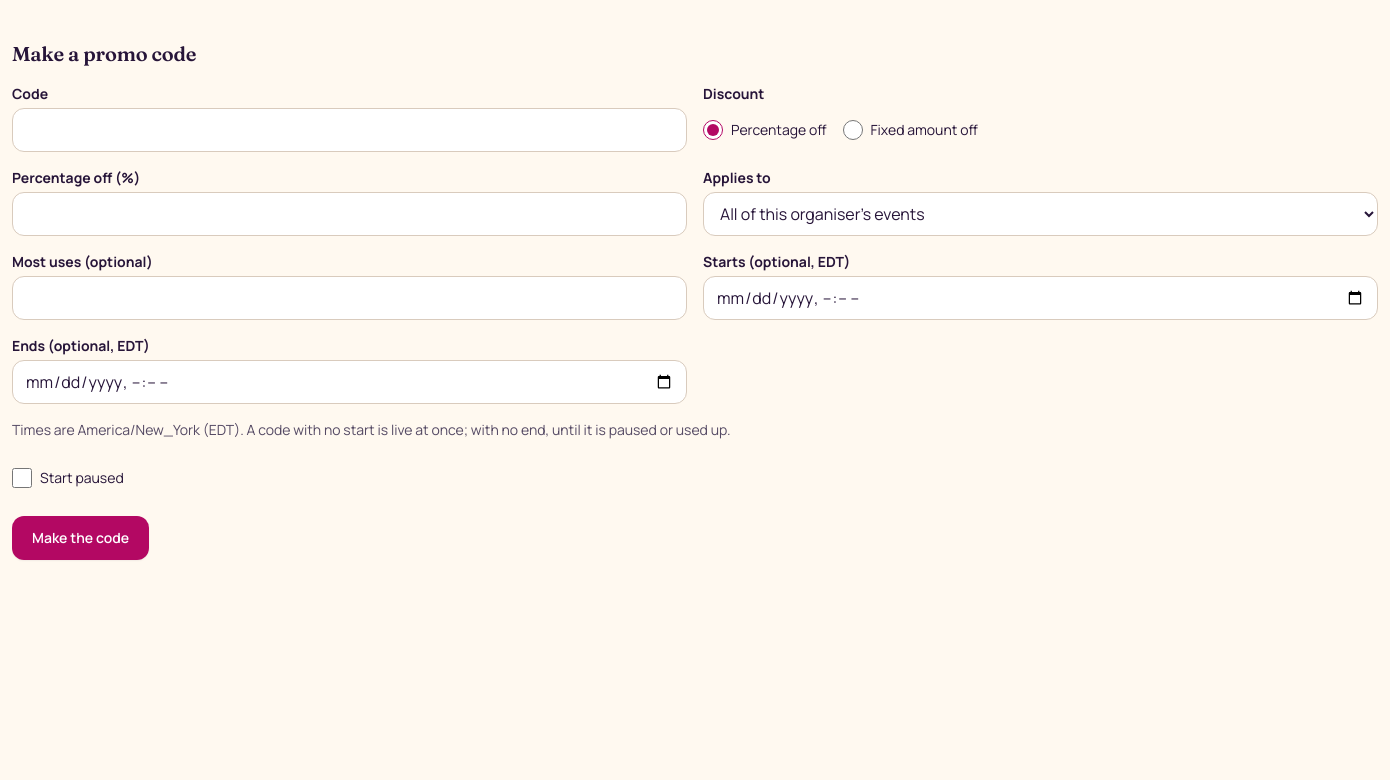
Test case: making a code › sends it to the organisation’s codes, says so politely and refreshes the list
This screenshot has width=1390, height=780.
Type "save10" into the field labelled "Code" at (350, 130), box [12,108,687,152]
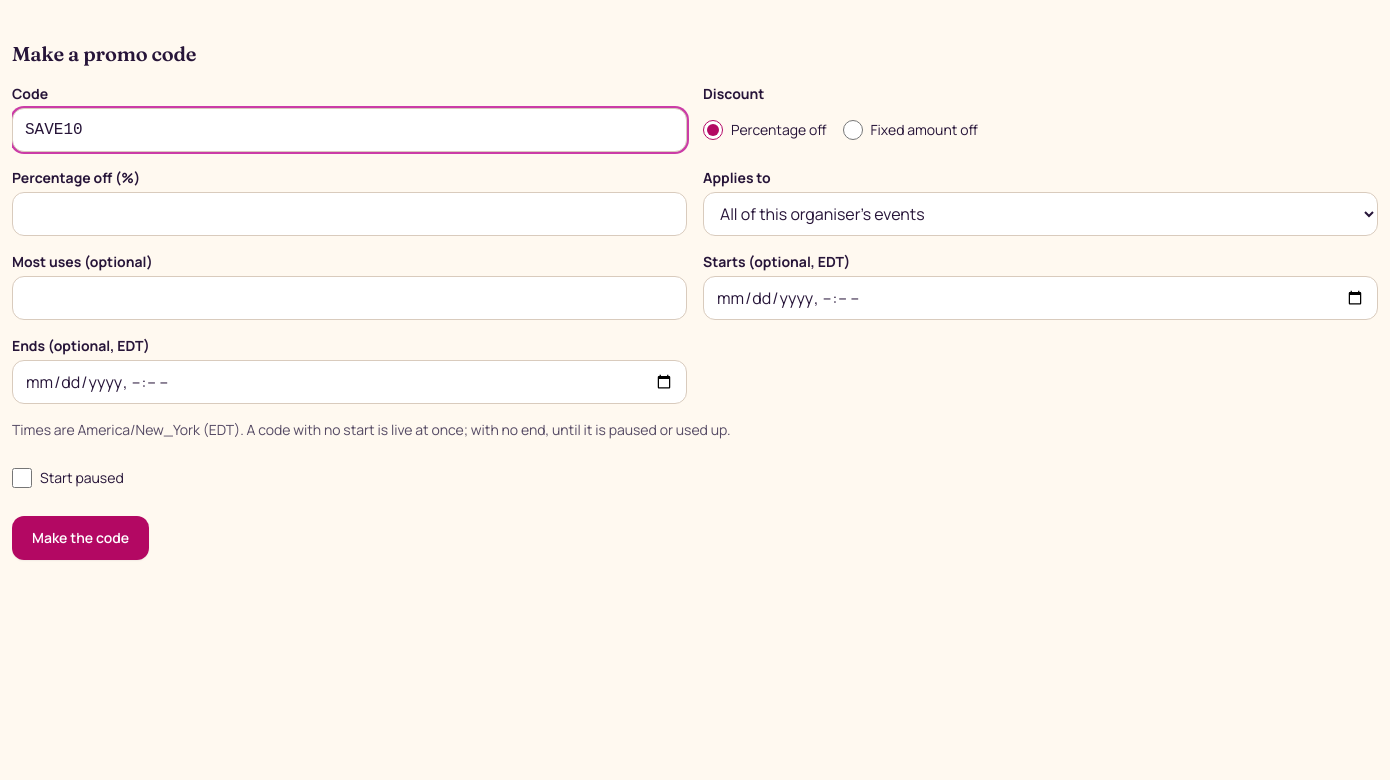
Type "10" into the field labelled "Percentage off (%)" at (350, 214), box [12,192,687,236]
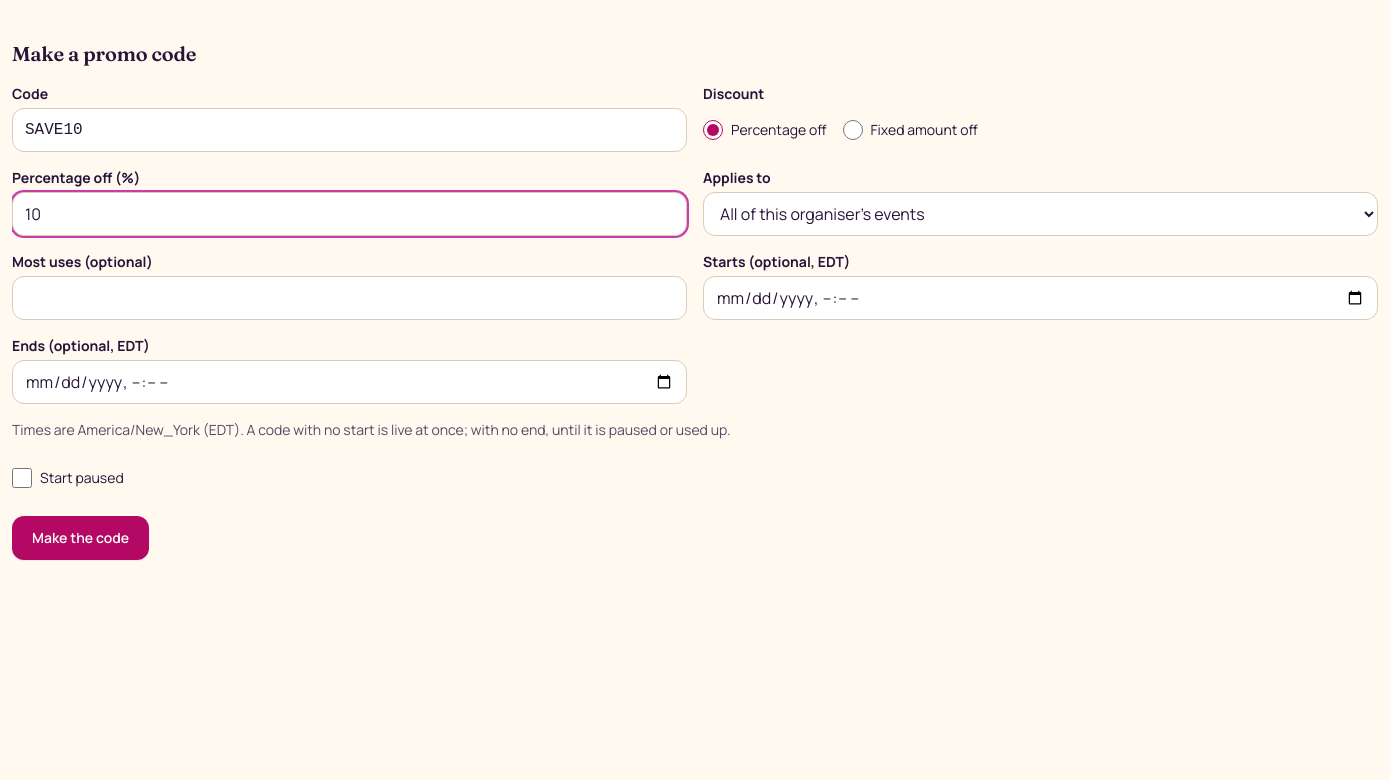
Click the button "Make the code" at (81, 538), box [12,516,149,560]
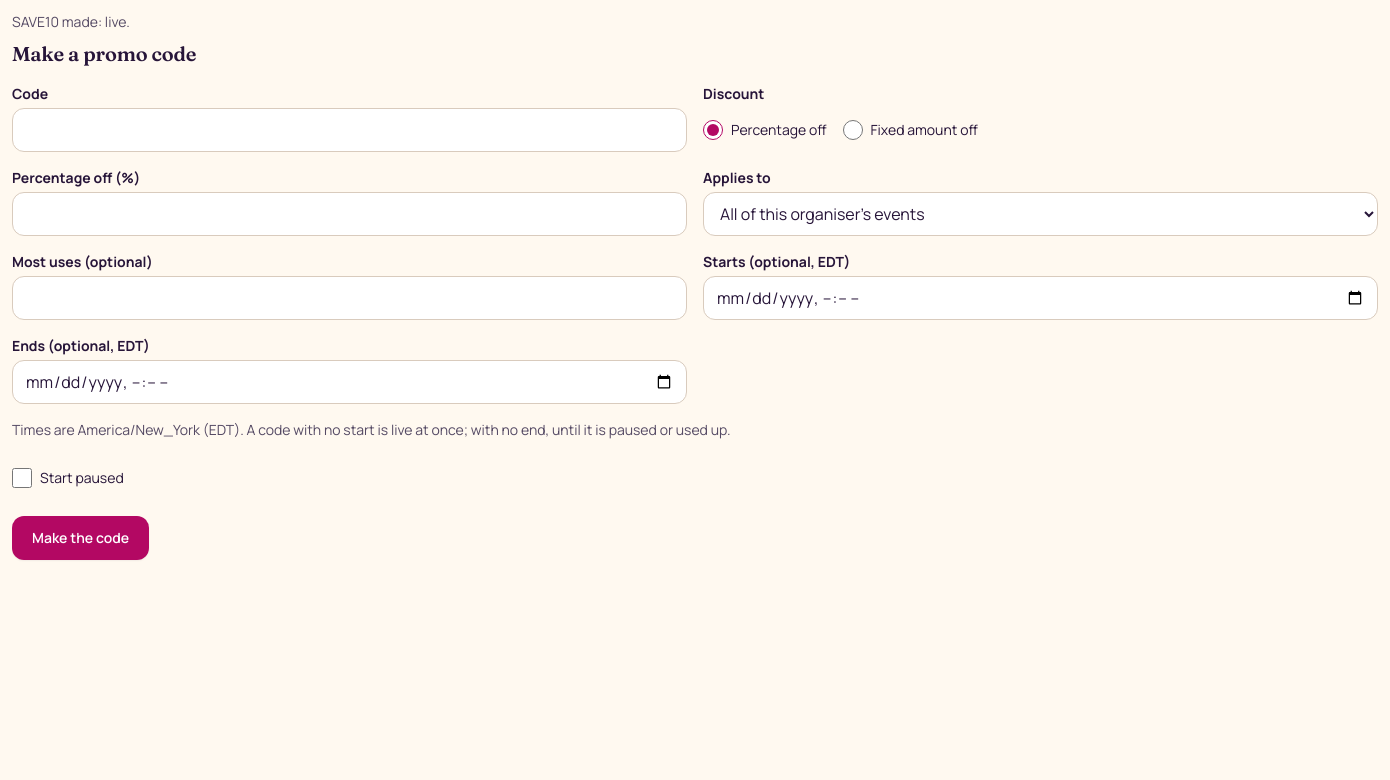
Check: the text "SAVE10 made: live." is shown, box [12,12,130,31]
